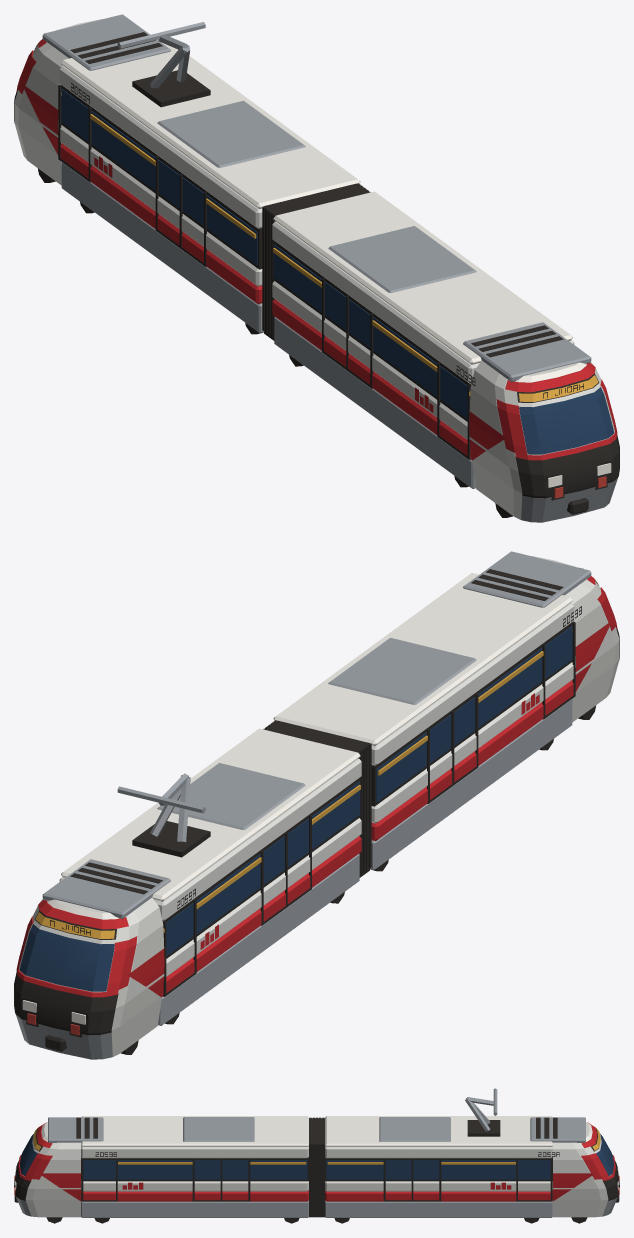
File: muni-lrv.glb
3 renders of one model, top to bottom at view 1: azimuth 30°, elevation 25°; view 2: azimuth 150°, elevation 25°; view 3: azimuth 270°, elevation 25°, orthographic. The views are drawn at different scales.
Visible parts, largest first — view 1: LRV_Section_B, LRV_Section_A, LRV_Bellows; view 2: LRV_Section_A, LRV_Section_B, LRV_Bellows; view 3: LRV_Section_A, LRV_Section_B, LRV_Bellows.
Boxes of the visible parts, bbox=[...] form: LRV_Section_B: bbox=[272, 191, 619, 522]; LRV_Section_A: bbox=[14, 14, 360, 334]; LRV_Bellows: bbox=[262, 183, 370, 340]; LRV_Section_A: bbox=[14, 728, 361, 1059]; LRV_Section_B: bbox=[273, 551, 619, 871]; LRV_Bellows: bbox=[263, 720, 371, 877]; LRV_Section_A: bbox=[325, 1088, 619, 1223]; LRV_Section_B: bbox=[14, 1116, 308, 1223]; LRV_Bellows: bbox=[309, 1117, 324, 1217].
Bounding box in the file's own units: 2.66 × 4.76 × 22.86.
